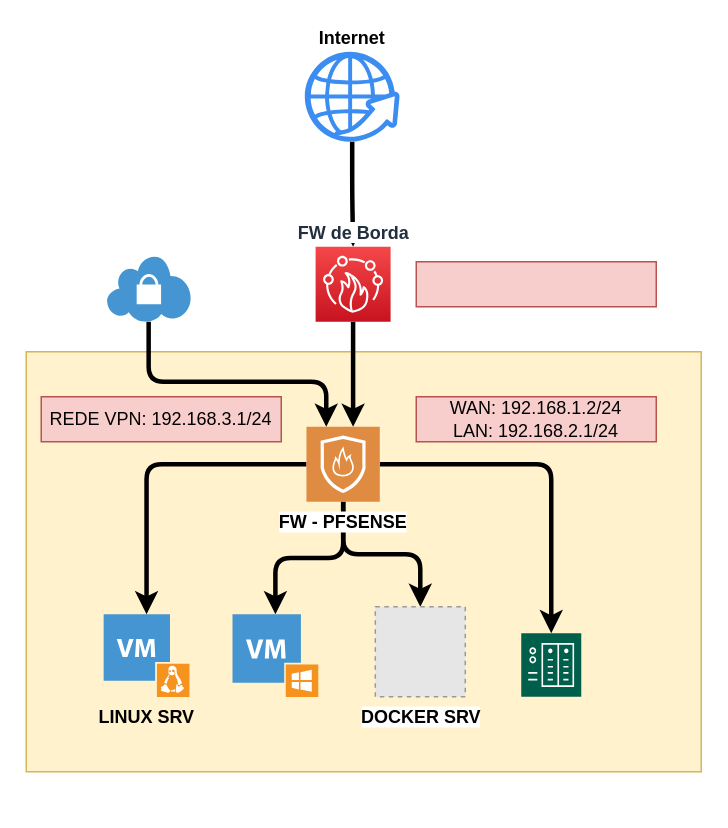
Some shapes in this 728 by 828 pixel diagram are drawn without their labels. Grey dashed boxes stand in for pictures. Here are the shapes that lost their labels. From the top down, the box of each, then its label:
(415, 260, 656, 307): WAN: IP PUBLICO LAN: 192.168.1.1/24
(25, 350, 701, 772): HIPERVISOR - PROXMOX
(232, 614, 318, 696): WINDOWS SRV
(520, 632, 580, 696): FREENAS
